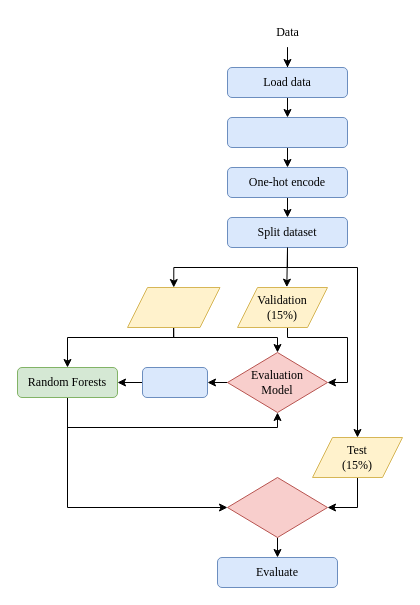
This 420x605 diagram has some shape labels left out. Each missing label, with the box of its shape:
Handle missing values: (226, 116, 348, 148)
Predictive Model: (226, 476, 328, 538)
Train (70%): (126, 286, 220, 328)
Tune max_depth: (142, 366, 208, 398)
